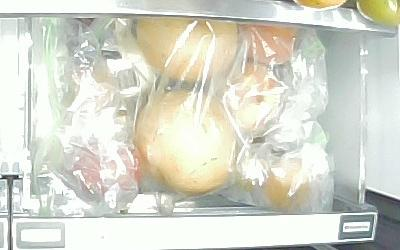pear_vinyl: (133, 89, 238, 196), (133, 15, 243, 82)
